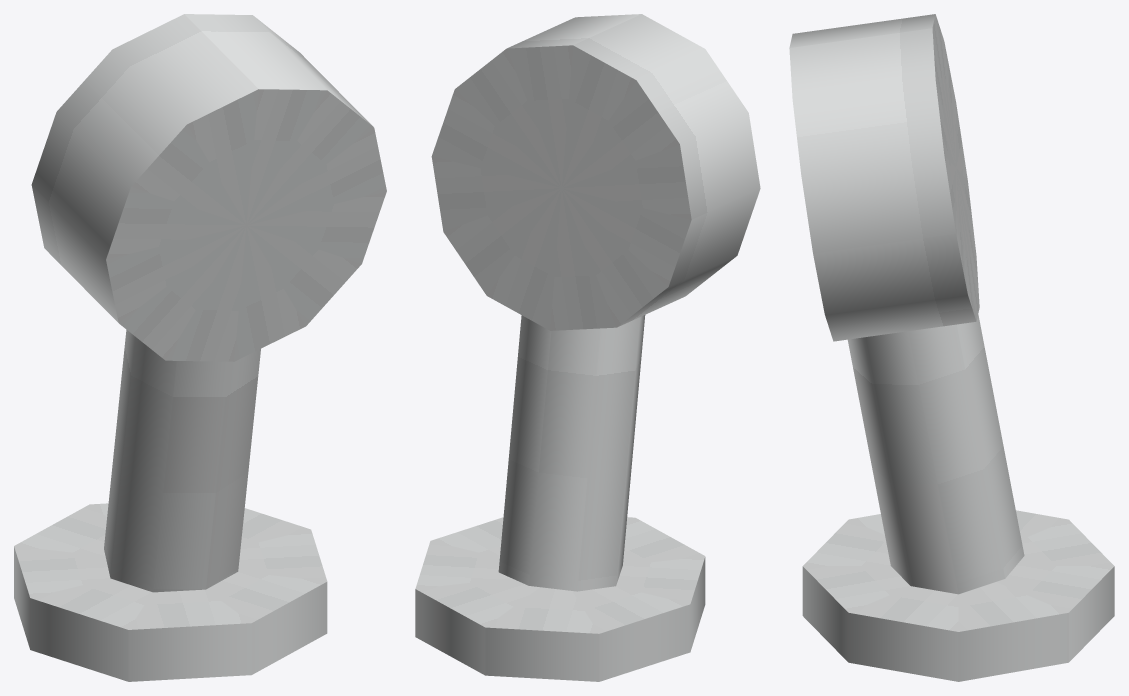
File: trusssignalarm_stub_10.obj
The picture shows the model from 3 angles, left to right: view 1: azimuth 30°, elevation 25°; view 2: azimuth 150°, elevation 25°; view 3: azimuth 270°, elevation 25°; orthographic projection. The views are drawn at different scales.
Visible parts, largest first — view 1: trusssignalarm_stub_10; view 2: trusssignalarm_stub_10; view 3: trusssignalarm_stub_10.
Boxes of the visible parts, x1=… form: trusssignalarm_stub_10: x1=14, y1=14, x2=386, y2=681; trusssignalarm_stub_10: x1=415, y1=14, x2=760, y2=681; trusssignalarm_stub_10: x1=789, y1=14, x2=1114, y2=681.
Bounding box in the file's own units: 0.35 × 0.7282 × 0.365.
